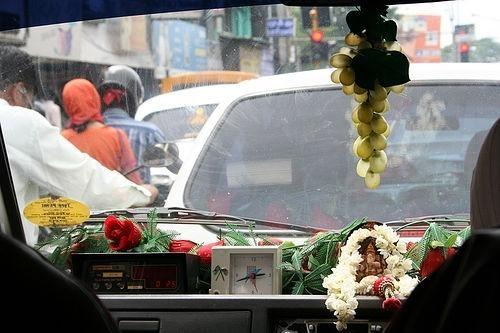car: (155, 62, 500, 252), (132, 83, 232, 206)
